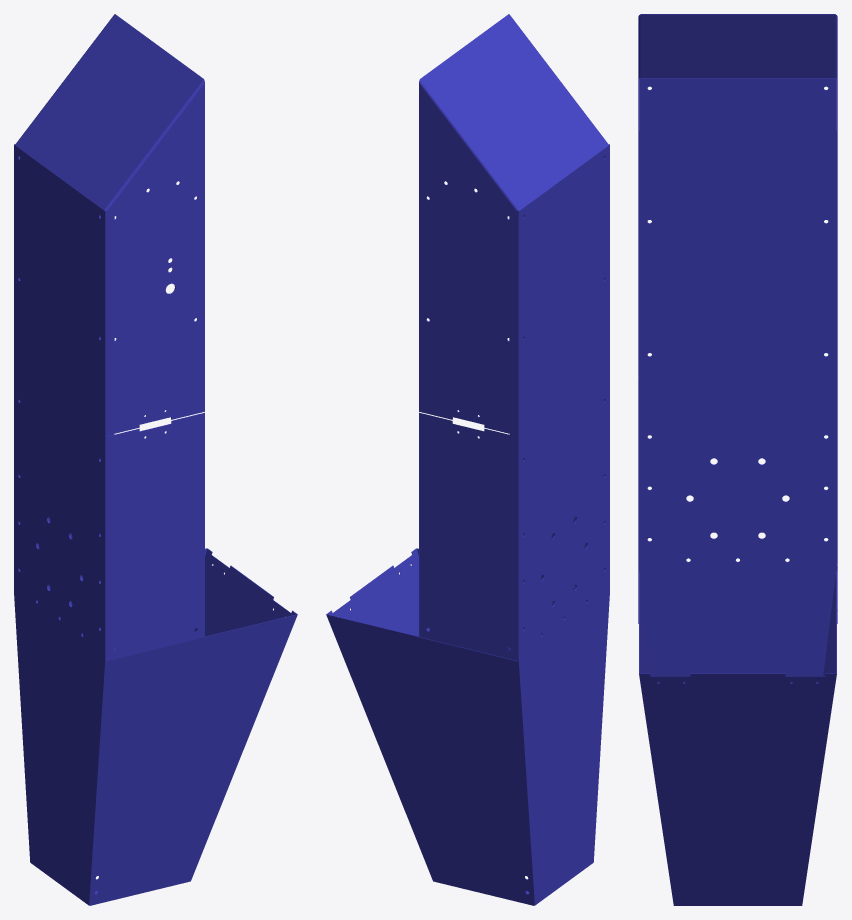
Rendered from Carter02.glb.
3 renders of one model, left to right at view 1: azimuth 30°, elevation 25°; view 2: azimuth 150°, elevation 25°; view 3: azimuth 270°, elevation 25°, orthographic. The views are drawn at different scales.
Size of the model in its own units: 0.3234 by 1.3 by 0.264.
